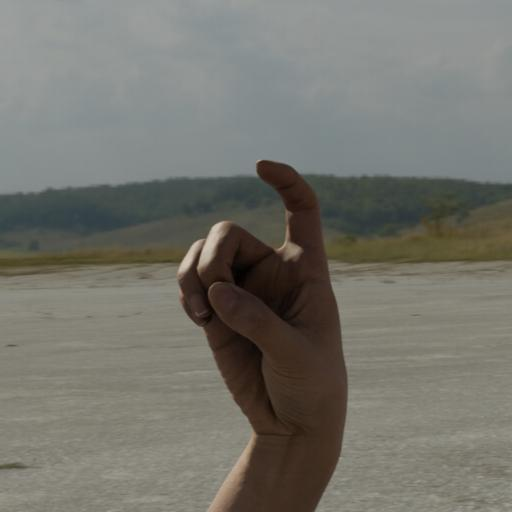X: (165, 136, 352, 435)
